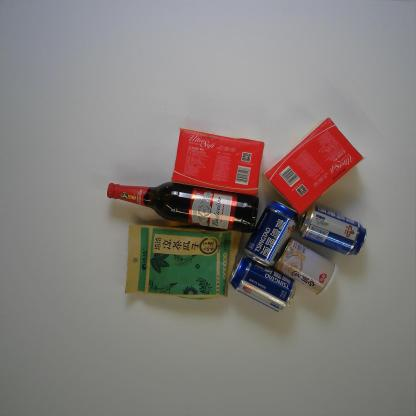Alcohol: (105, 180, 260, 234), (242, 199, 298, 268), (229, 256, 296, 313), (297, 204, 368, 256)
Canned Food: (273, 236, 340, 298)
Dried Food: (124, 223, 242, 300)
Tissue: (262, 115, 367, 216), (171, 126, 266, 196)
